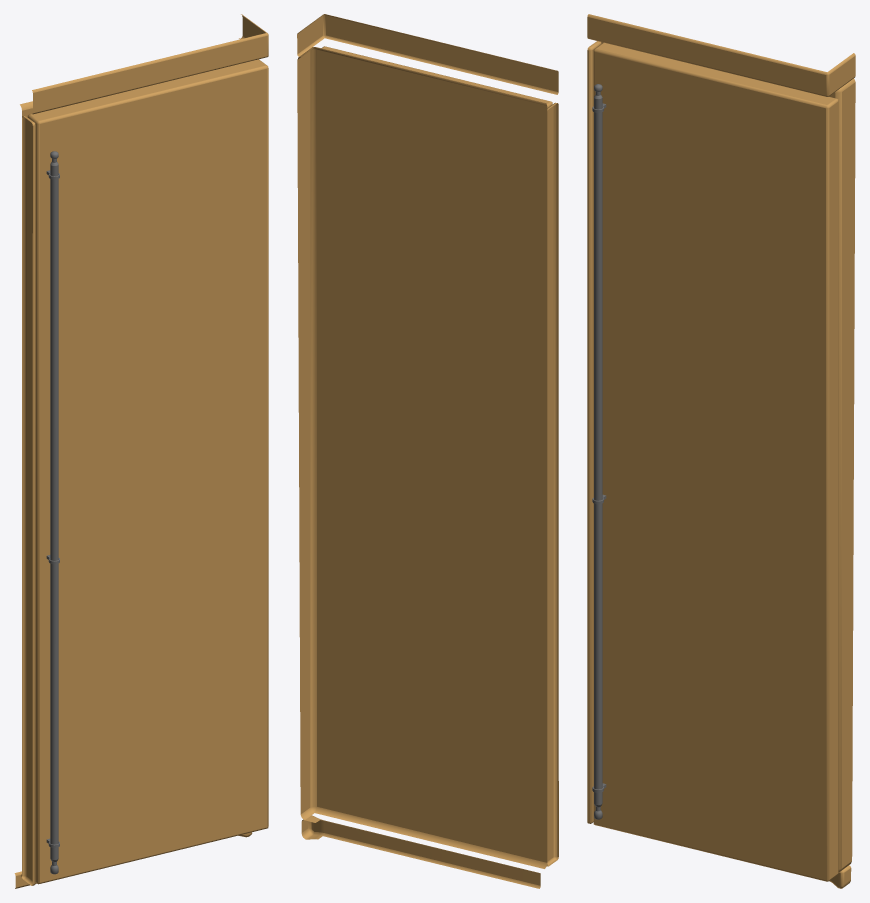
Rendered from 131Right.obj.
The picture shows the model from 3 angles, left to right: view 1: azimuth 30°, elevation 25°; view 2: azimuth 150°, elevation 25°; view 3: azimuth 330°, elevation 25°; orthographic projection. The views are drawn at different scales.
Parts seen in each view (by area): view 1: 131; view 2: 131; view 3: 131.
Boxes of the visible parts, x1,y1,x2,y2 form: 131: [14, 14, 268, 888]; 131: [297, 14, 558, 888]; 131: [587, 14, 855, 888].
Size of the model in its own units: 0.5469 by 1.8 by 0.1416.
